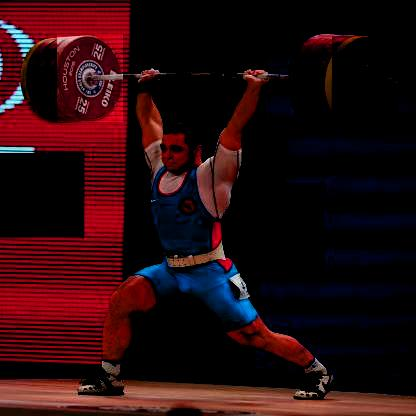barbell: (333, 36, 397, 128), (59, 35, 125, 122)
